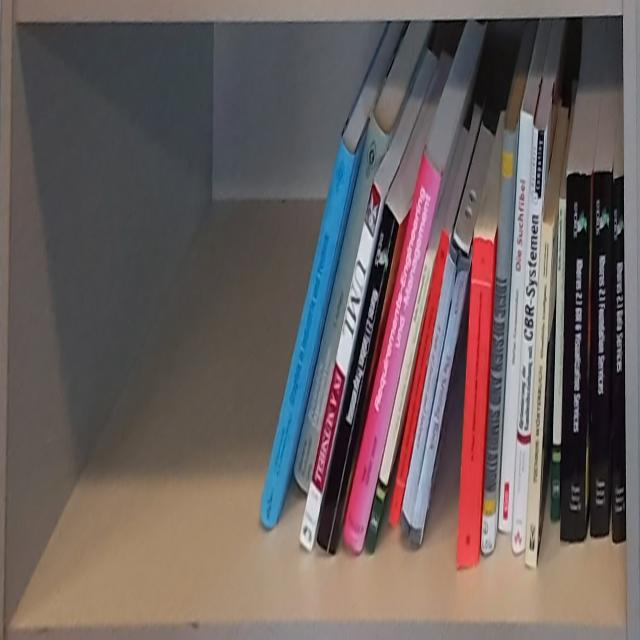Book Spine: (342, 152, 442, 554), (259, 138, 355, 528), (292, 111, 383, 491), (298, 183, 382, 551), (315, 201, 399, 556), (399, 237, 470, 545), (364, 252, 435, 556), (388, 228, 450, 527), (481, 127, 516, 556), (511, 127, 545, 556), (498, 109, 532, 532), (457, 235, 494, 568), (560, 172, 592, 543), (524, 222, 553, 568), (591, 171, 611, 539), (551, 196, 567, 522), (613, 175, 627, 545)
